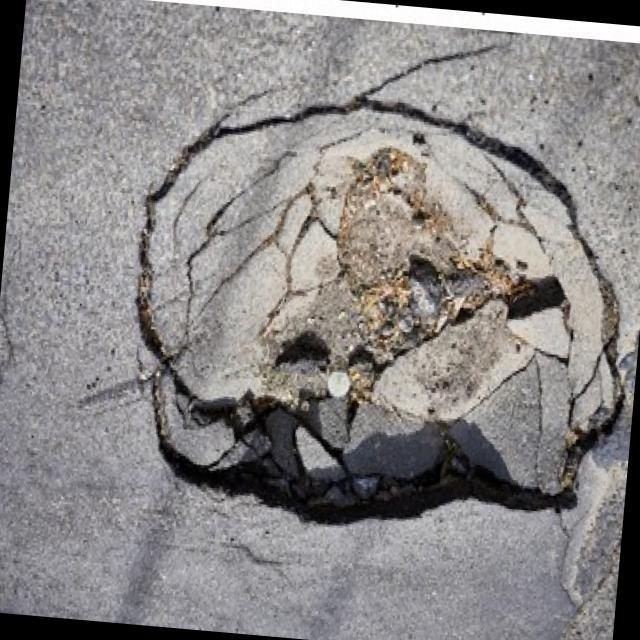Pothole: (136, 107, 622, 525)
